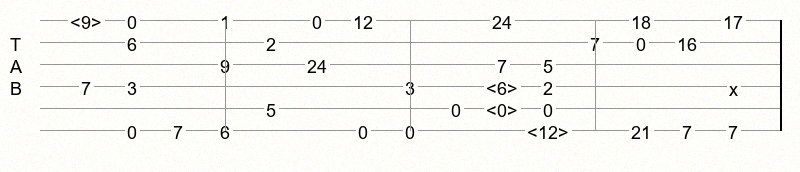0: (127, 122, 141, 139), (127, 12, 141, 29), (312, 12, 326, 29), (358, 122, 372, 139), (405, 122, 419, 139), (451, 100, 465, 117), (543, 100, 557, 117), (636, 34, 650, 51)
1: (220, 12, 234, 29)
12: (353, 12, 377, 29)
16: (677, 34, 701, 51)
17: (723, 12, 747, 29)
18: (631, 12, 655, 29)
2: (266, 34, 280, 51), (543, 78, 557, 95)
21: (631, 122, 655, 139)
24: (307, 56, 331, 73), (492, 12, 516, 29)
3: (127, 78, 141, 95), (405, 78, 419, 95)
5: (266, 100, 280, 117), (543, 56, 557, 73)
6: (127, 34, 141, 51), (220, 122, 234, 139)
7: (81, 78, 95, 95), (173, 122, 187, 139), (497, 56, 511, 73), (590, 34, 604, 51), (682, 122, 696, 139), (728, 122, 742, 139)
9: (220, 56, 234, 73)
harmonic: (527, 122, 573, 139), (70, 12, 106, 29), (486, 100, 522, 117), (486, 78, 522, 95)
x: (729, 79, 742, 93)
